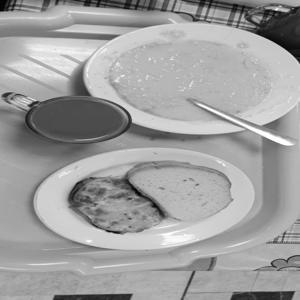bread: (129, 152, 236, 238)
cheese_sandwich: (55, 164, 164, 251)
coffee: (20, 80, 131, 153)
porridge: (97, 23, 296, 137)
